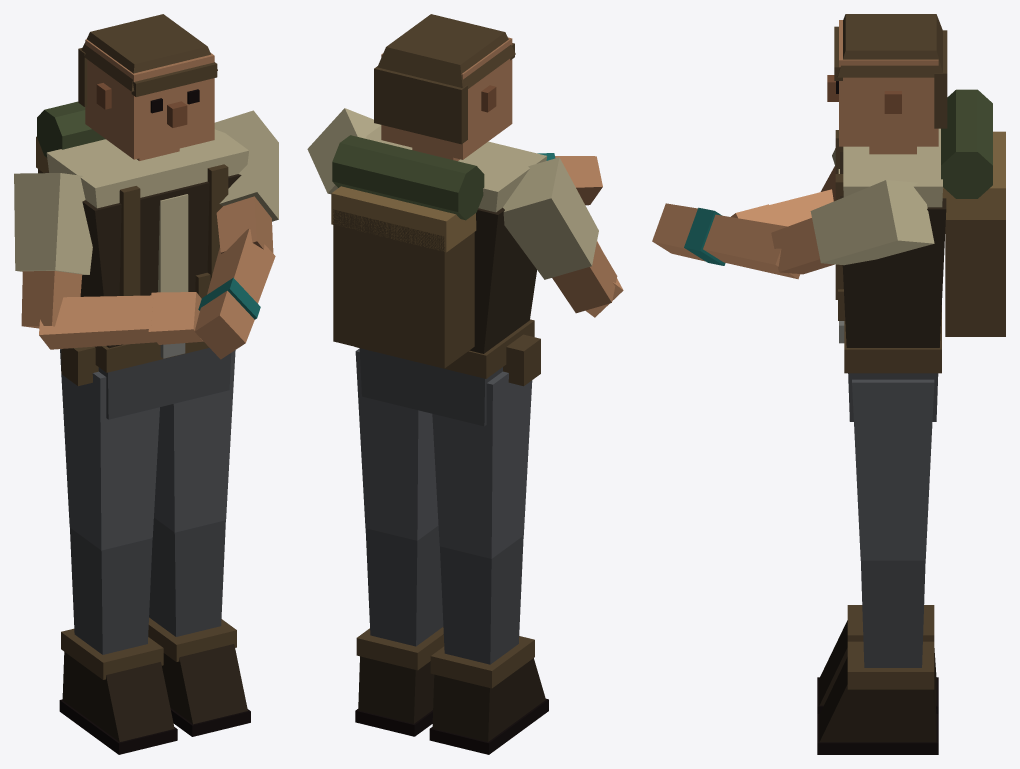
Rendered from grunt.glb.
3 renders of one model, left to right at view 1: azimuth 30°, elevation 25°; view 2: azimuth 150°, elevation 25°; view 3: azimuth 270°, elevation 25°, orthographic. The views are drawn at different scales.
Parts seen in each view (by area): view 1: torso, leg_r_lower, head, leg_l_lower, leg_r, arm_r, leg_l, arm_r_lower, arm_l, arm_l_lower, pack; view 2: pack, torso, leg_r_lower, head, leg_l_lower, leg_r, arm_r, leg_l, arm_l, arm_l_lower; view 3: torso, leg_l_lower, head, pack, leg_l, arm_l, arm_l_lower, leg_r_lower, arm_r_lower.
Boxes of the visible parts, x1,y1,x2,y2 form: torso: (43,129,248,419); leg_r_lower: (59,528,177,754); head: (78,14,217,160); leg_l_lower: (148,518,250,736); leg_r: (60,349,159,550); arm_r: (14,173,92,328); leg_l: (154,350,235,532); arm_r_lower: (39,292,203,349); arm_l: (214,110,278,253); arm_l_lower: (194,228,275,359); pack: (36,101,105,173); pack: (331,135,484,368); torso: (356,125,547,426); leg_r_lower: (429,536,548,754); head: (374,14,515,161); leg_l_lower: (355,525,444,736); leg_r: (432,371,532,558); arm_r: (503,157,617,313); leg_l: (355,348,438,540); arm_l: (307,108,380,194); arm_l_lower: (537,153,602,205); torso: (835,128,946,421); leg_l_lower: (817,560,938,754); head: (827,14,947,154); pack: (941,89,1005,336); leg_l: (852,379,934,560); arm_l: (771,180,934,274); arm_l_lower: (652,203,800,279); leg_r_lower: (817,605,938,713); arm_r_lower: (731,189,833,226).
Size of the model in its own units: 0.7612 by 1.75 by 0.8162.
